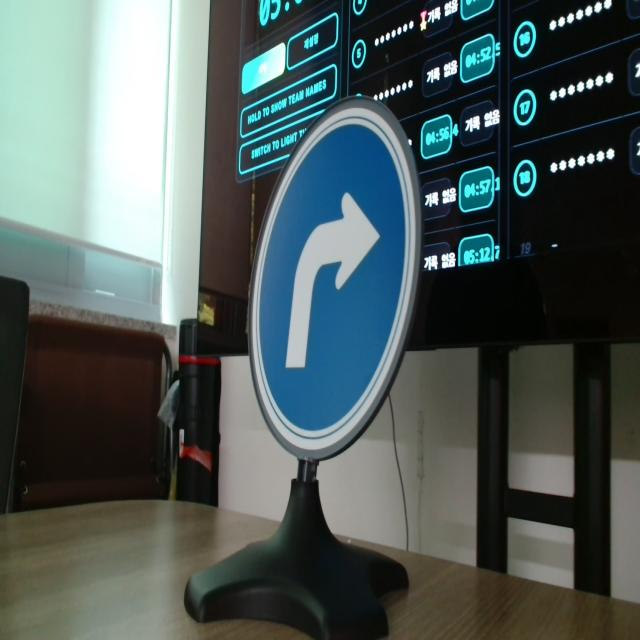right_dierection: (255, 95, 422, 455)
